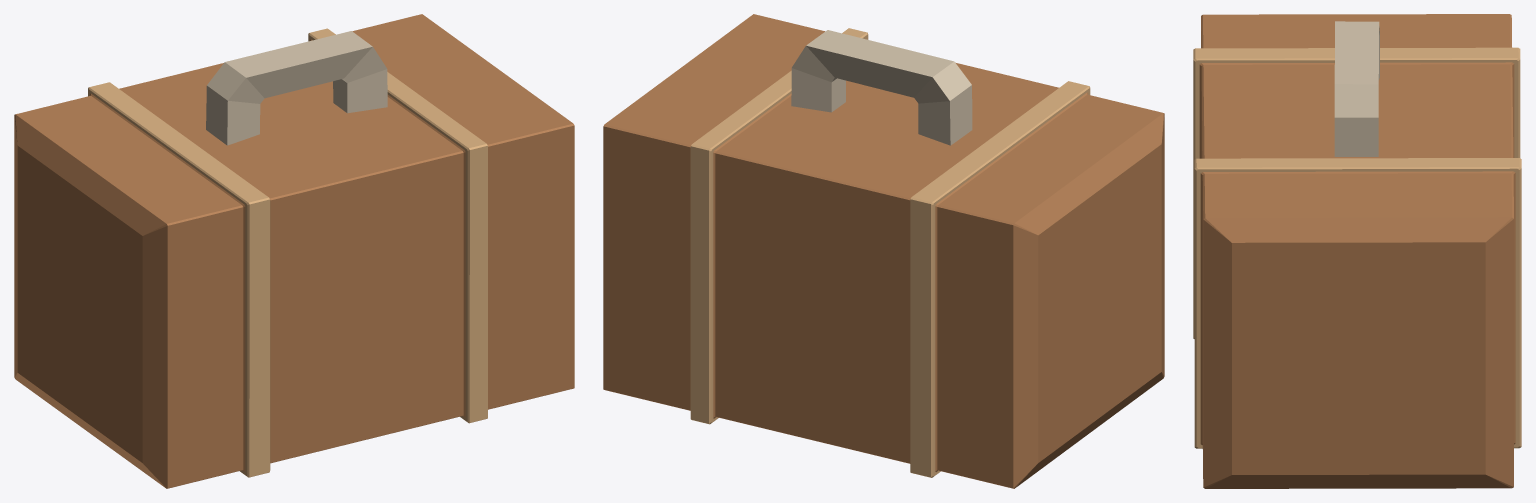
Rendered from Suitcase_3.fbx.
The picture shows the model from 3 angles, left to right: view 1: azimuth 30°, elevation 25°; view 2: azimuth 150°, elevation 25°; view 3: azimuth 270°, elevation 25°; orthographic projection. The views are drawn at different scales.
Visible parts, largest first — view 1: Suitcase_3; view 2: Suitcase_3; view 3: Suitcase_3.
Boxes of the visible parts, bbox=[...] form: Suitcase_3: bbox=[14, 14, 574, 488]; Suitcase_3: bbox=[603, 14, 1164, 488]; Suitcase_3: bbox=[1193, 14, 1521, 488].
Size of the model in its own units: 96.65 by 62.4 by 71.6.
